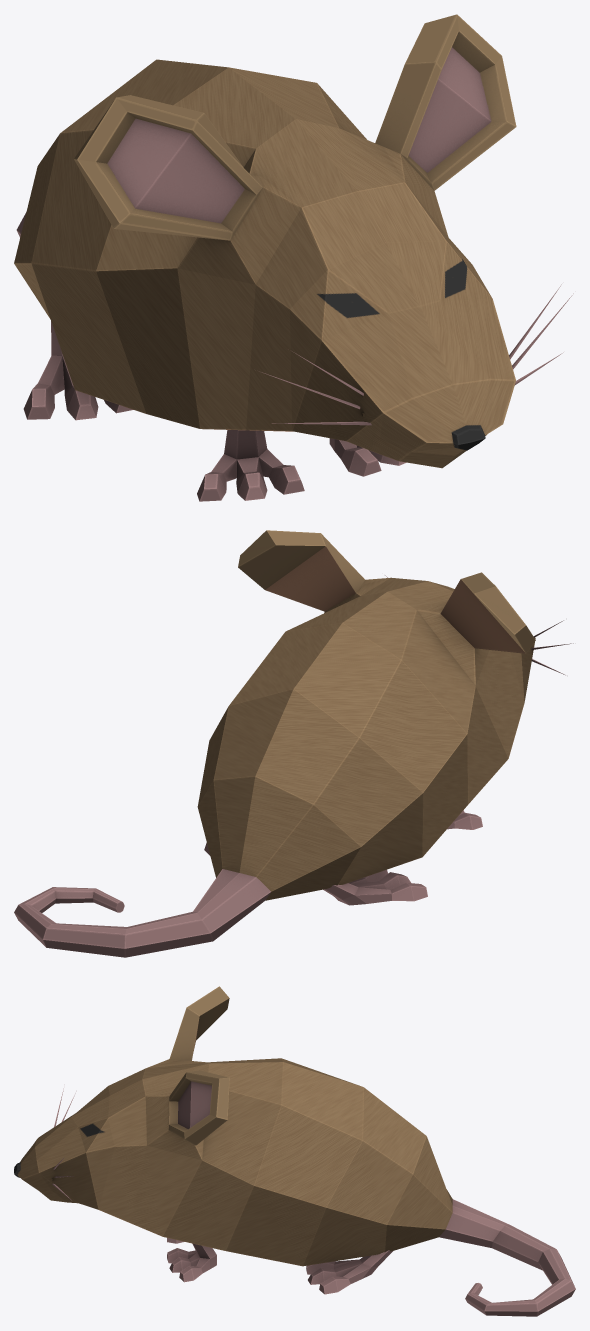
The model's file is Mouse.obj.
The picture shows the model from 3 angles, top to bottom: view 1: azimuth 30°, elevation 25°; view 2: azimuth 150°, elevation 25°; view 3: azimuth 270°, elevation 25°; orthographic projection. The views are drawn at different scales.
Visible parts, largest first — view 1: Mouse_mesh; view 2: Mouse_mesh; view 3: Mouse_mesh.
Boxes of the visible parts, x1,y1,x2,y2 form: Mouse_mesh: (14,14,573,501); Mouse_mesh: (14,530,573,957); Mouse_mesh: (14,986,575,1316).
Bounding box in the file's own units: 7.49 × 5.98 × 14.
1 material, 1 textured.
